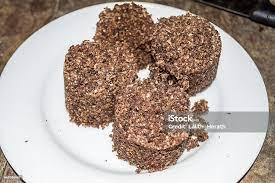pittu: (61, 3, 222, 167)
